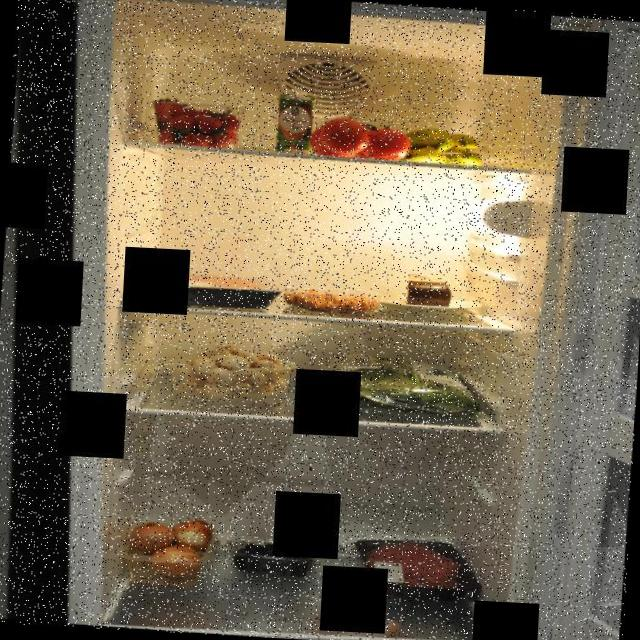Cebolla: (124, 509, 220, 585)
Champiñones: (166, 334, 301, 404)
Gambas/Langostinos: (281, 284, 379, 313)
Plátano: (402, 126, 494, 172)
Queso: (399, 268, 456, 312)
Tomate: (306, 109, 415, 164)
